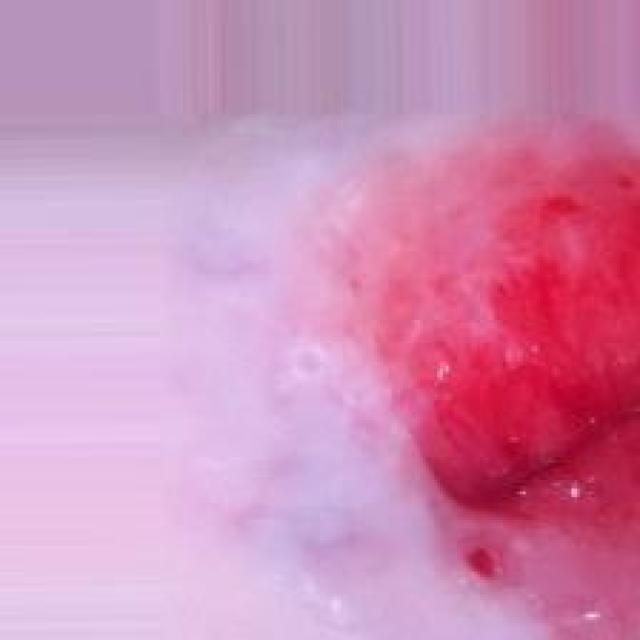type-1: (260, 146, 640, 631)
